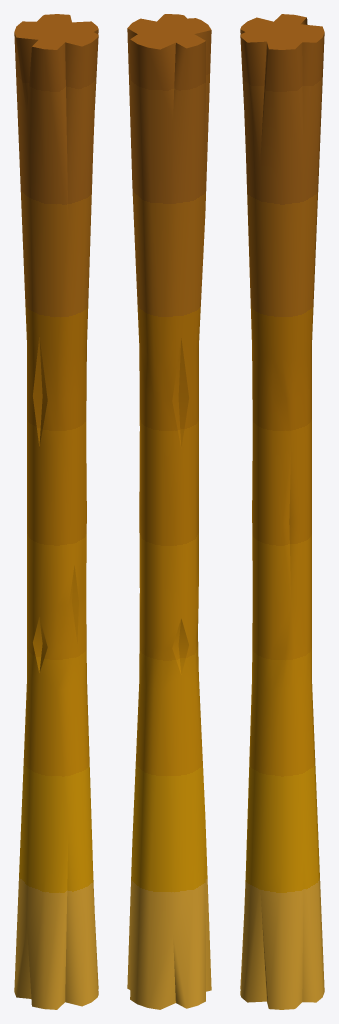
The model's file is SM_GameBoothWoodenPole.fbx.
3 views of the same model, side by side, from view 1: azimuth 90°, elevation 25°; view 2: azimuth 150°, elevation 25°; view 3: azimuth 270°, elevation 25° (orthographic).
Visible parts, largest first — view 1: GameBooth_WoodPole; view 2: GameBooth_WoodPole; view 3: GameBooth_WoodPole.
Part boxes in pixels (x1,y1,x2,y2): GameBooth_WoodPole: (14, 14, 98, 1009); GameBooth_WoodPole: (127, 14, 211, 1009); GameBooth_WoodPole: (240, 14, 324, 1009).
Size of the model in its own units: 10.23 by 127 by 10.11.
